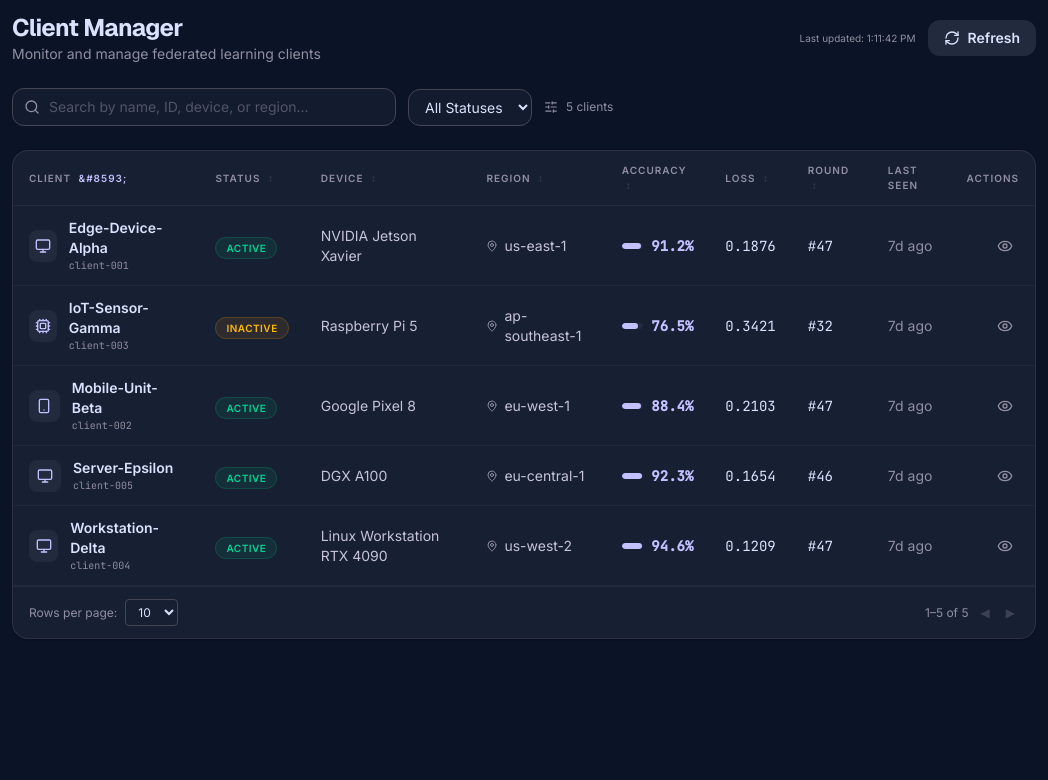
Clients page › filters clients by status
This screenshot has width=1048, height=780.
Expected: the text "Edge-Device-Alpha" is shown, [69,219,162,256]
Select "inactive" in the 1st dropdown: (470, 107) [408,88,532,126]
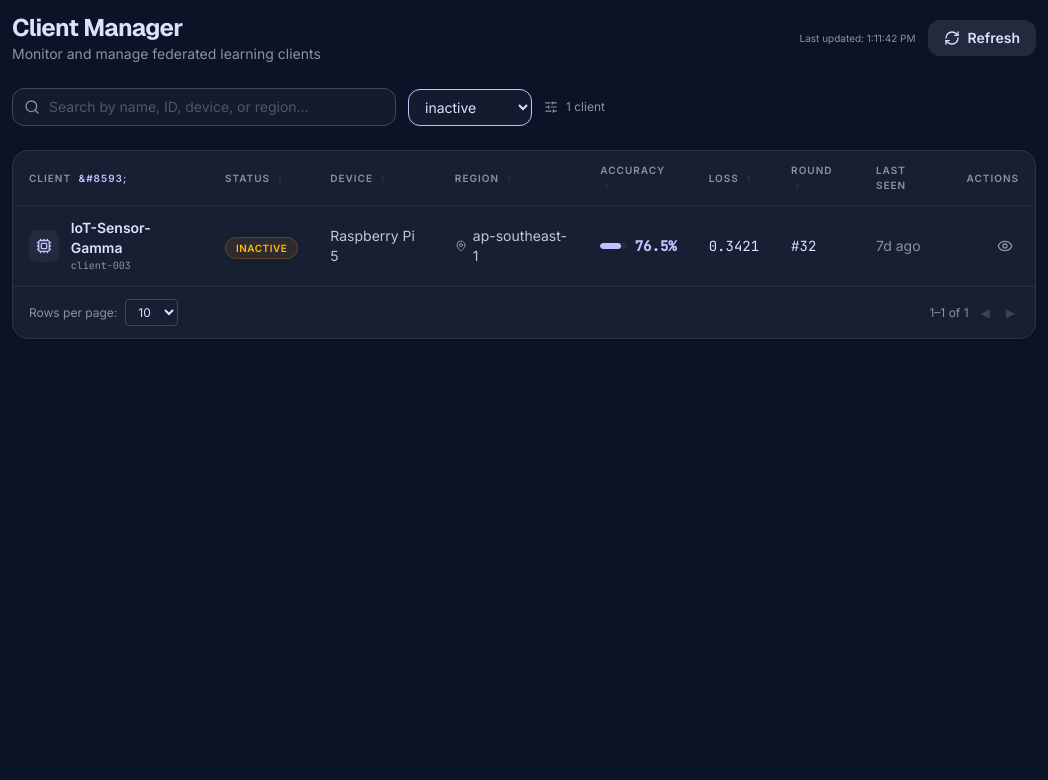
Expected: the text "IoT-Sensor-Gamma" is shown, [71,219,151,256]
Expected: the text "Edge-Device-Alpha" is gone
Expected: the text "1 client" is shown, [566,99,605,115]
